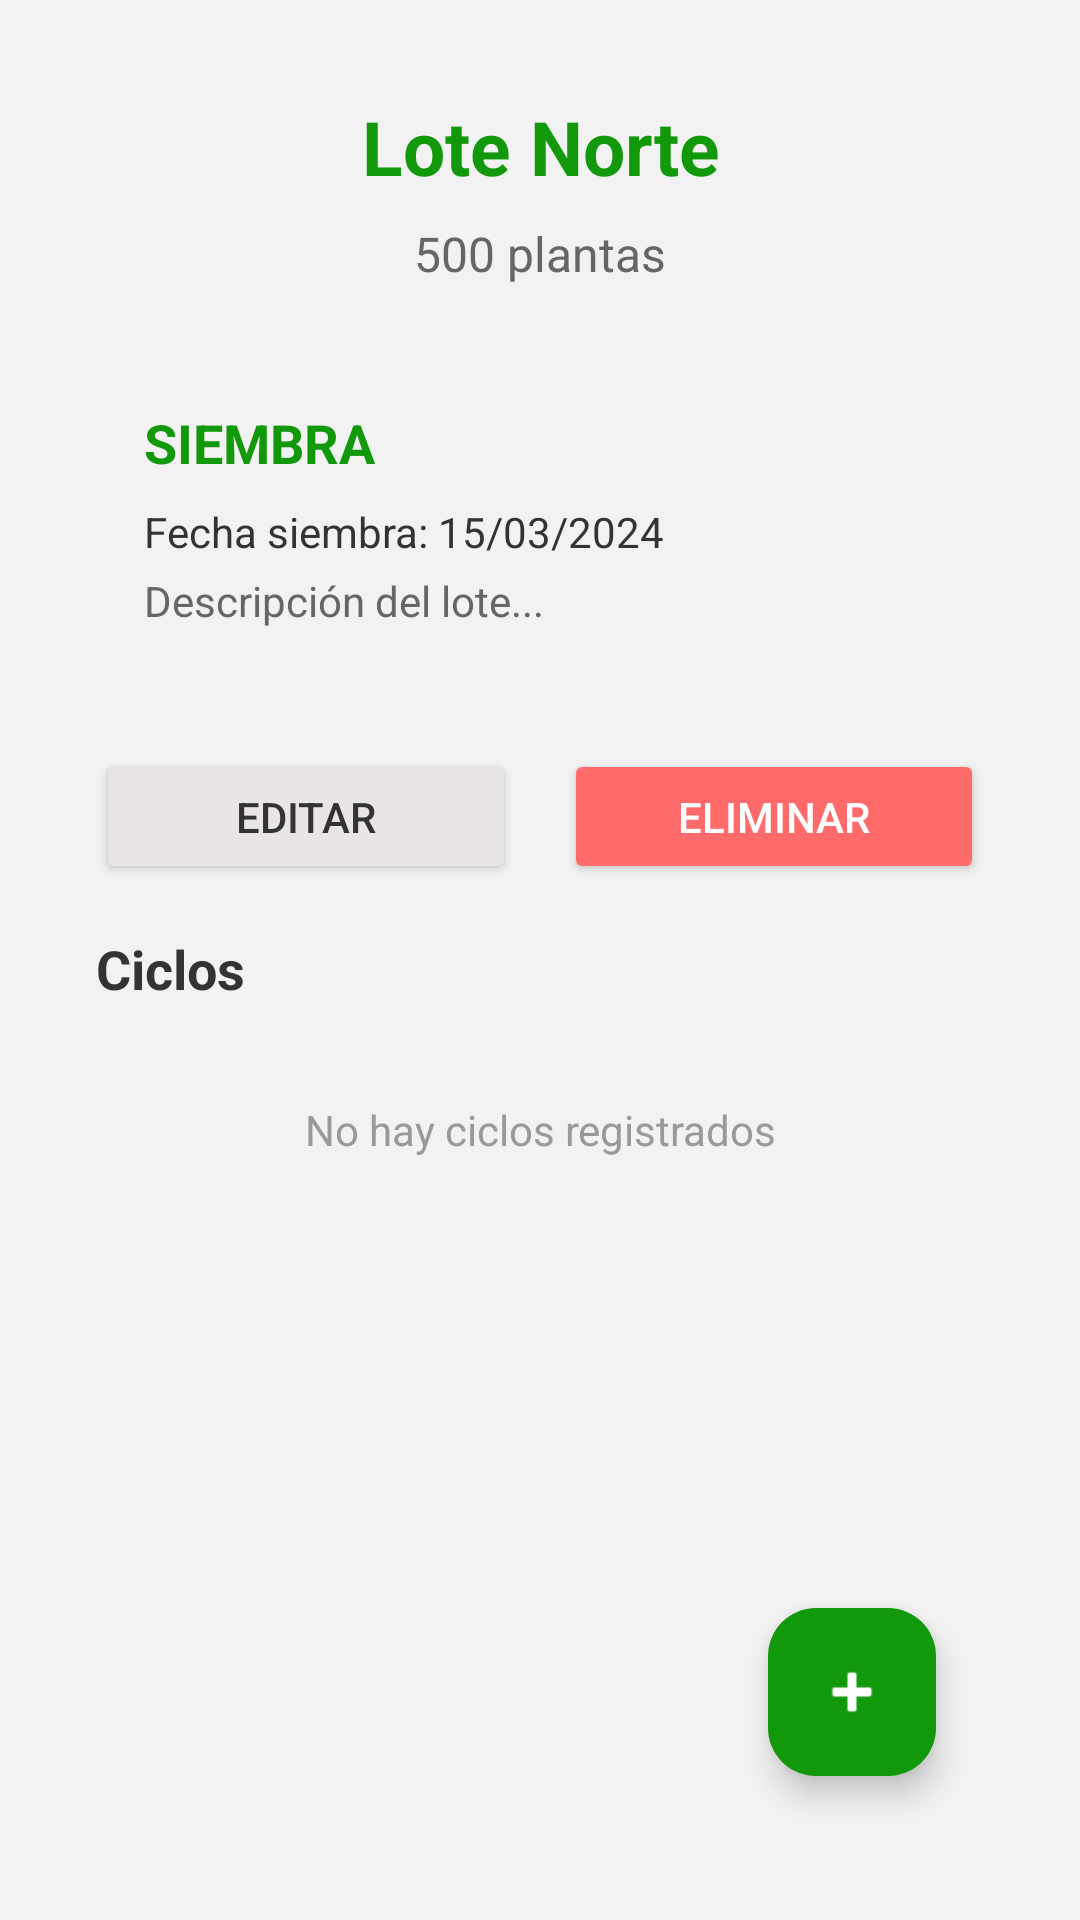

Icons on this 1080px x 1920px Android screen, each with its box as {"x1": x1, "y1": y1, "x2": x2, "y2": y2}:
add: {"x1": 768, "y1": 1608, "x2": 936, "y2": 1776}
